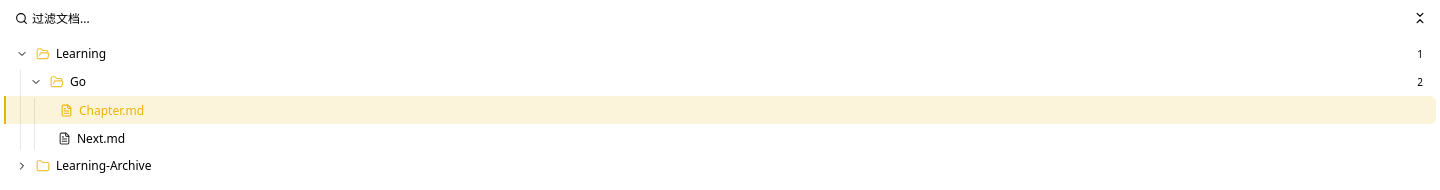
Test: FileTree › collapses all directories on collapse-all click
Expected: the element with class "tree-children" showing "Go 2 Chapter.md Next.md" is shown, [4,68,1436,152]
Click the button titled "全部折叠" at {"x": 1420, "y": 18}, box [1408,6,1432,30]
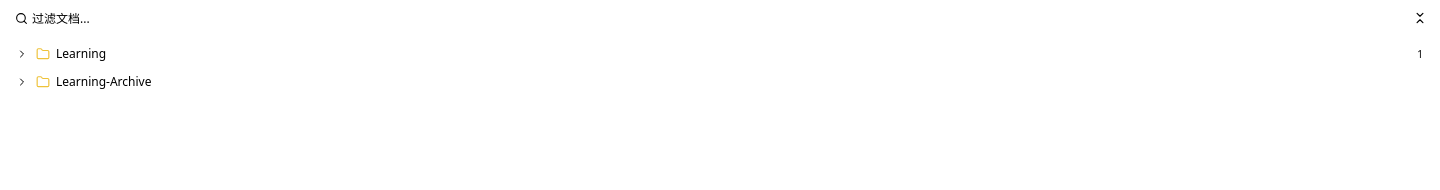
Expected: no elements with class "tree-children" are shown
